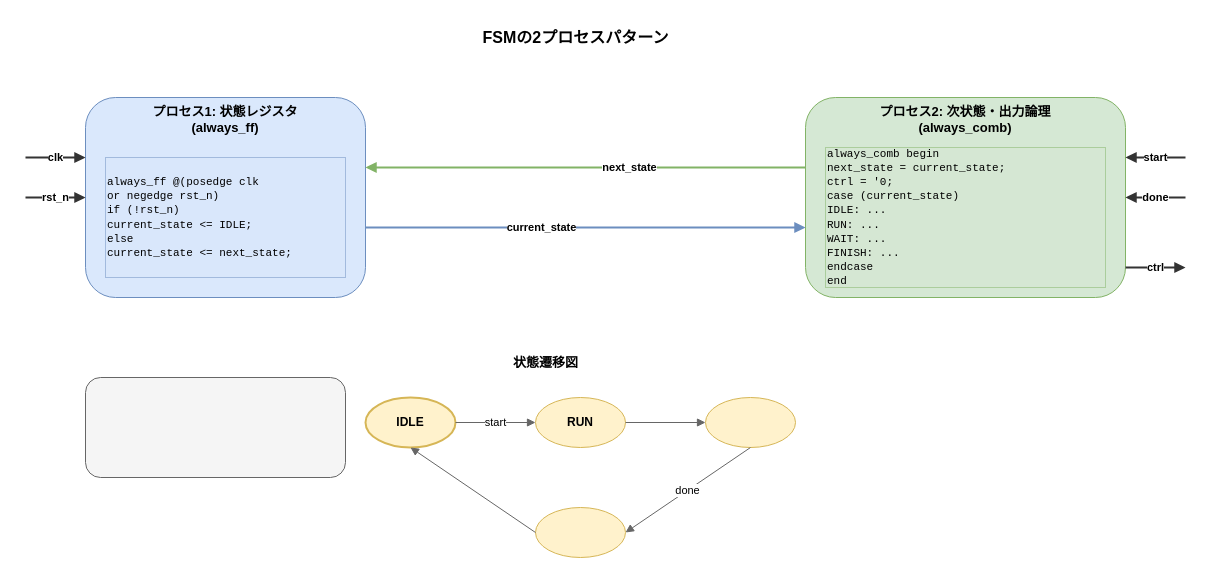
The diagram is 1211 pixels wide and 575 high, and some of its shapes have lost their labels. Here are the shapes that lost their labels. From the top down, the centre of each, then its label:
point (215, 427): メリット ・順序回路と組み合わせ回路の明確な分離 ・ラッチ推論の防止 ・デバッグが容易
point (750, 422): WAIT
point (580, 532): FINISH
